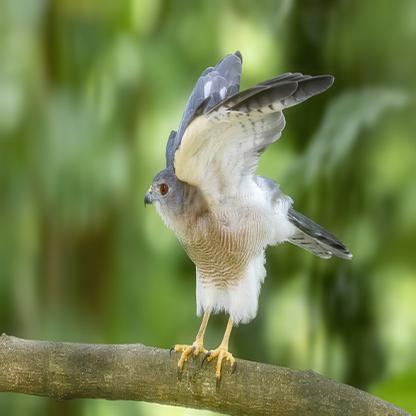Burung: (143, 51, 352, 392)
